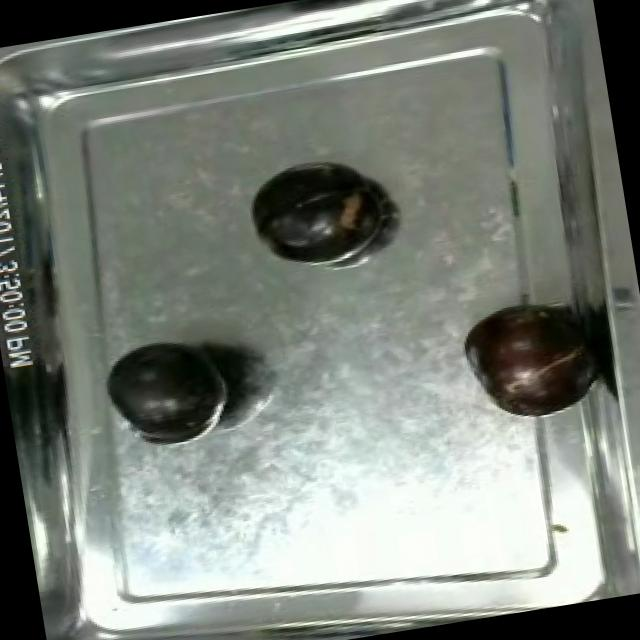Fruit: (454, 290, 600, 428), (94, 326, 242, 451), (241, 150, 384, 268)
